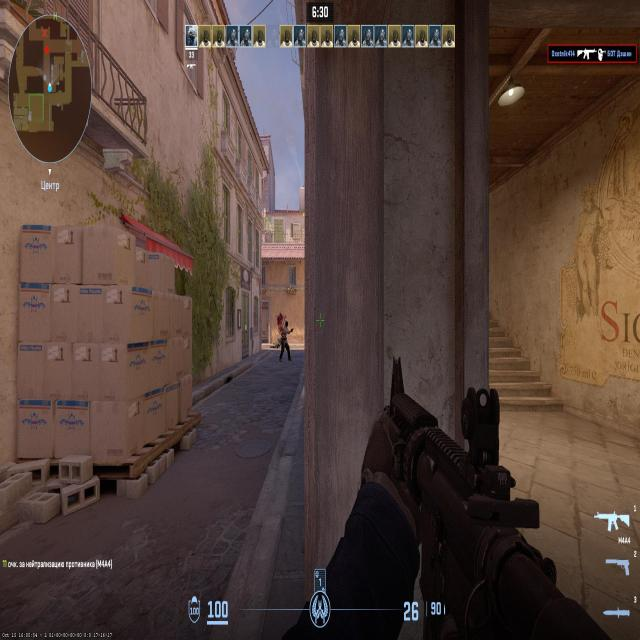T: (281, 323, 289, 358)
T_heat: (285, 323, 287, 332)
